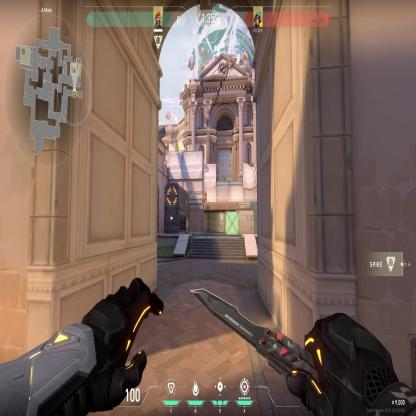enemy: (204, 190, 207, 202)
